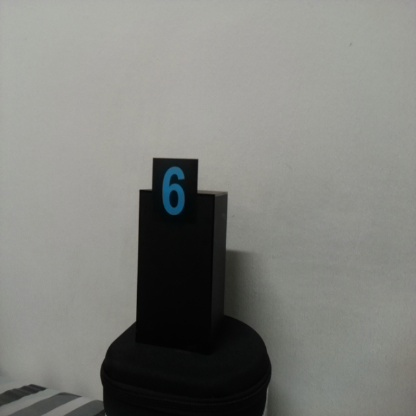id_6: (153, 158, 197, 235)
